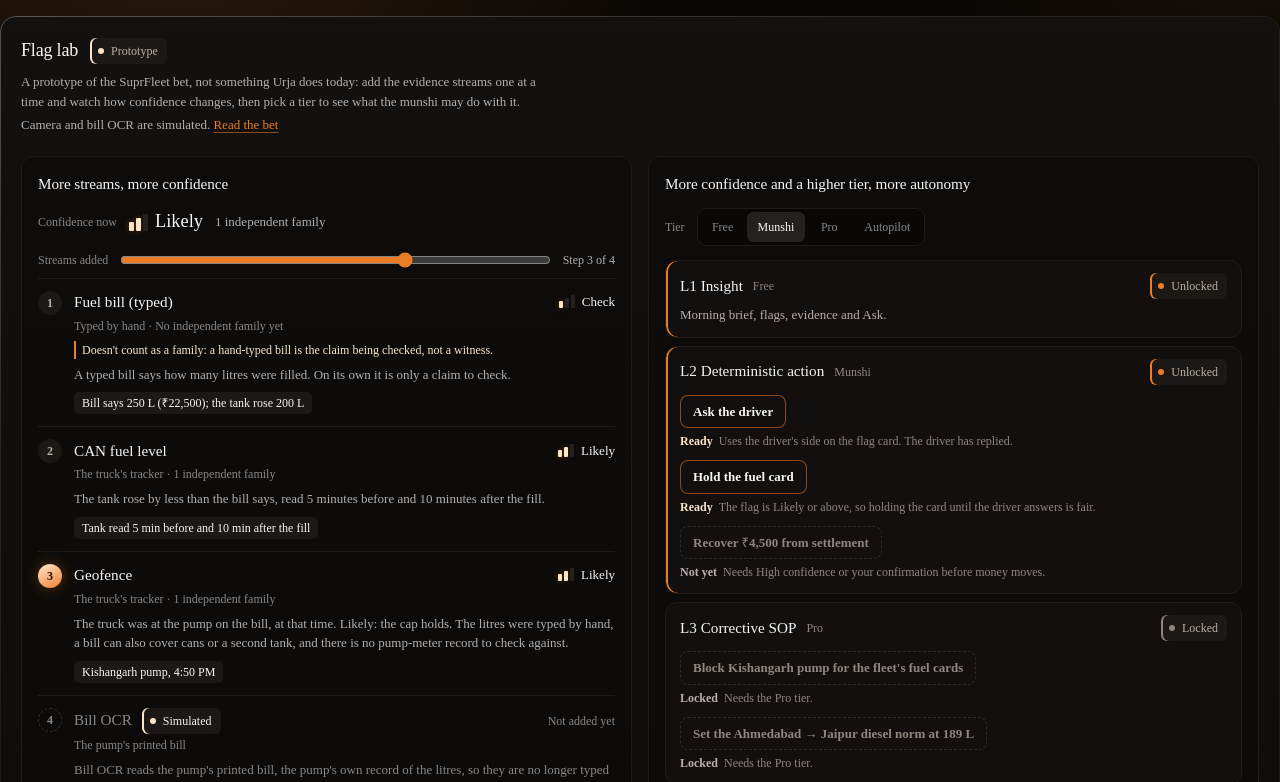
Test: FlagLab · other showcases › 0927-02: the typed bill doesn't count, and bill OCR (simulated) takes it to High on 2 families
Set the slider labelled "Streams added" to "1". click: (128, 260)
box: [120,248,551,272]
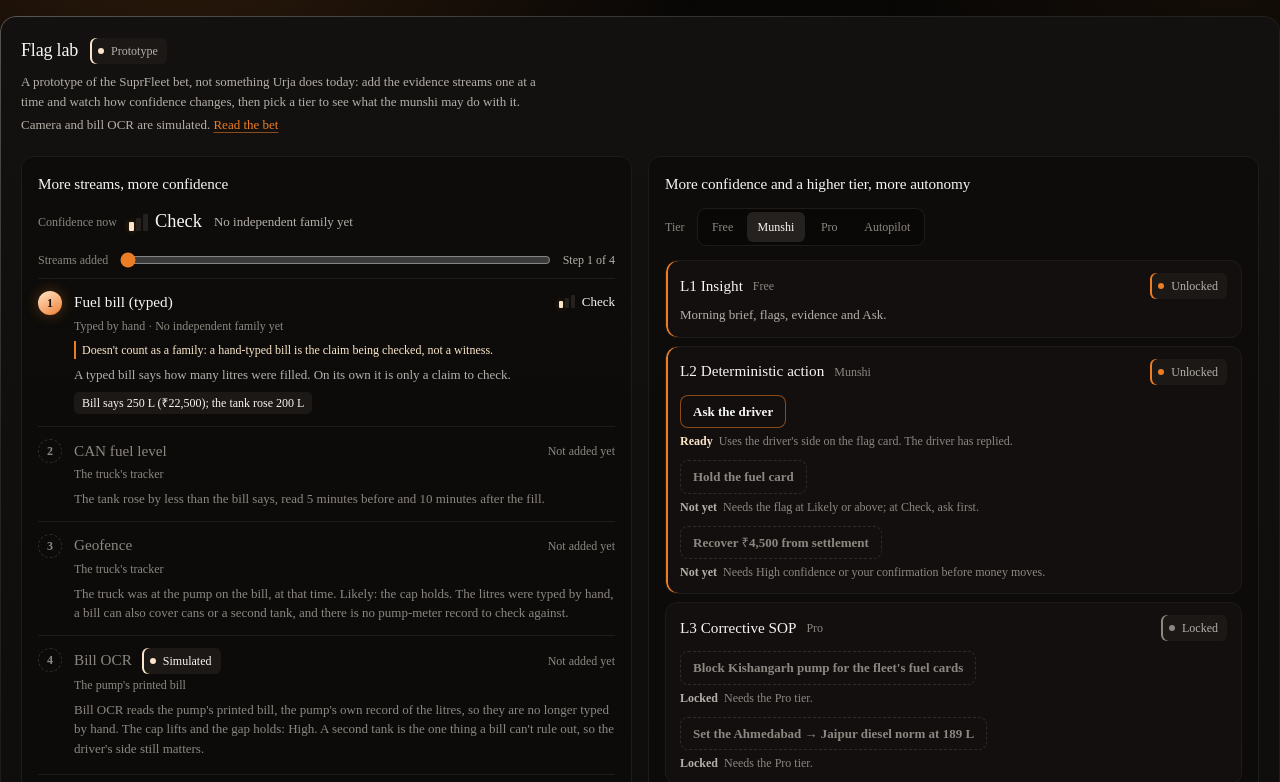
Check: the list item that starts with "Fuel bill (typed)" shows "Doesn't count as a family", box [82,343,493,357]
Check: the element with test id "fl-now" shows "No independent family yet", box [214,214,353,229]
Set the slider labelled "Streams added" to "4". click: (543, 260)
box: [120,248,551,272]
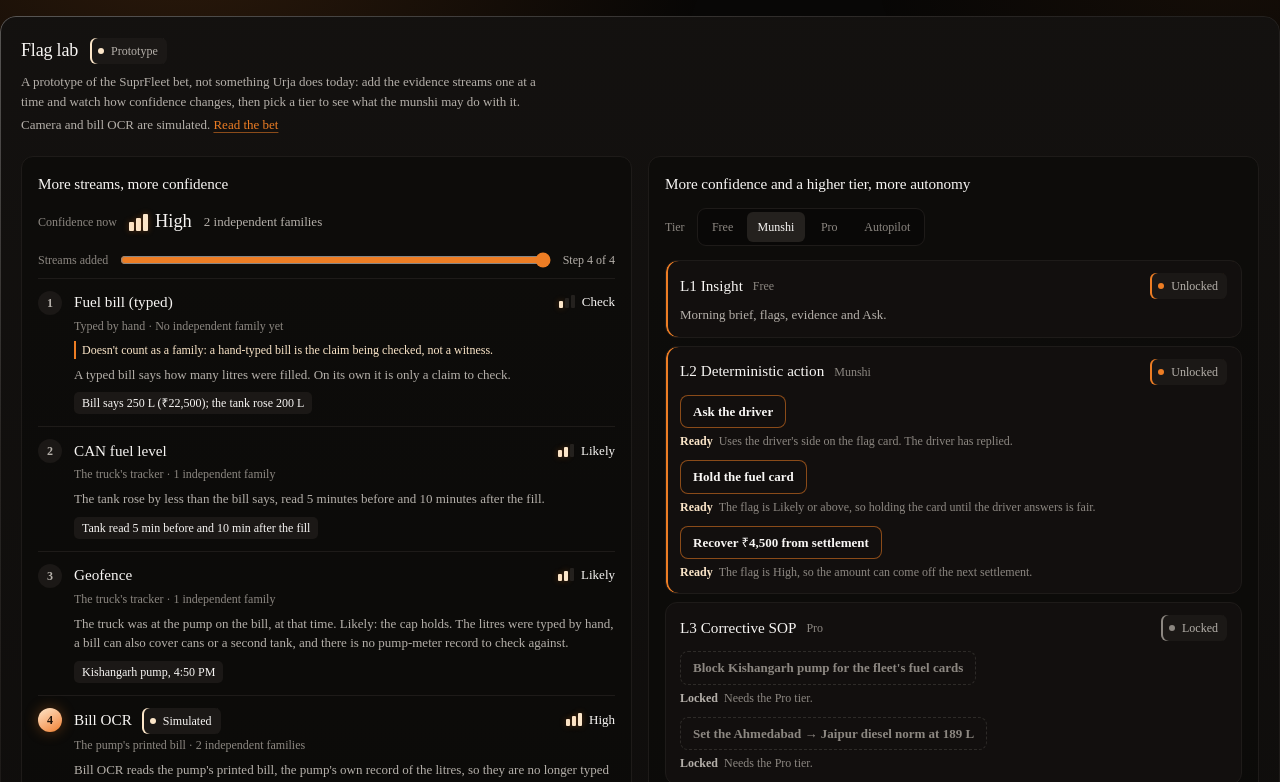
Check: the text "Simulated" is shown, box [142,708,220,734]
Check: the element with class "conf" reads "High", box [155,211,192,231]
Check: the element with test id "fl-now" shows "2 independent families", box [204,214,322,229]
